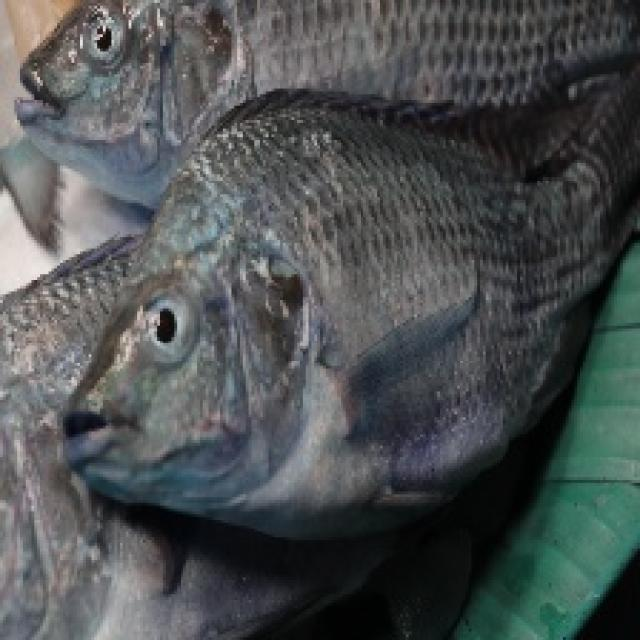Fresh: (60, 114, 640, 494)
